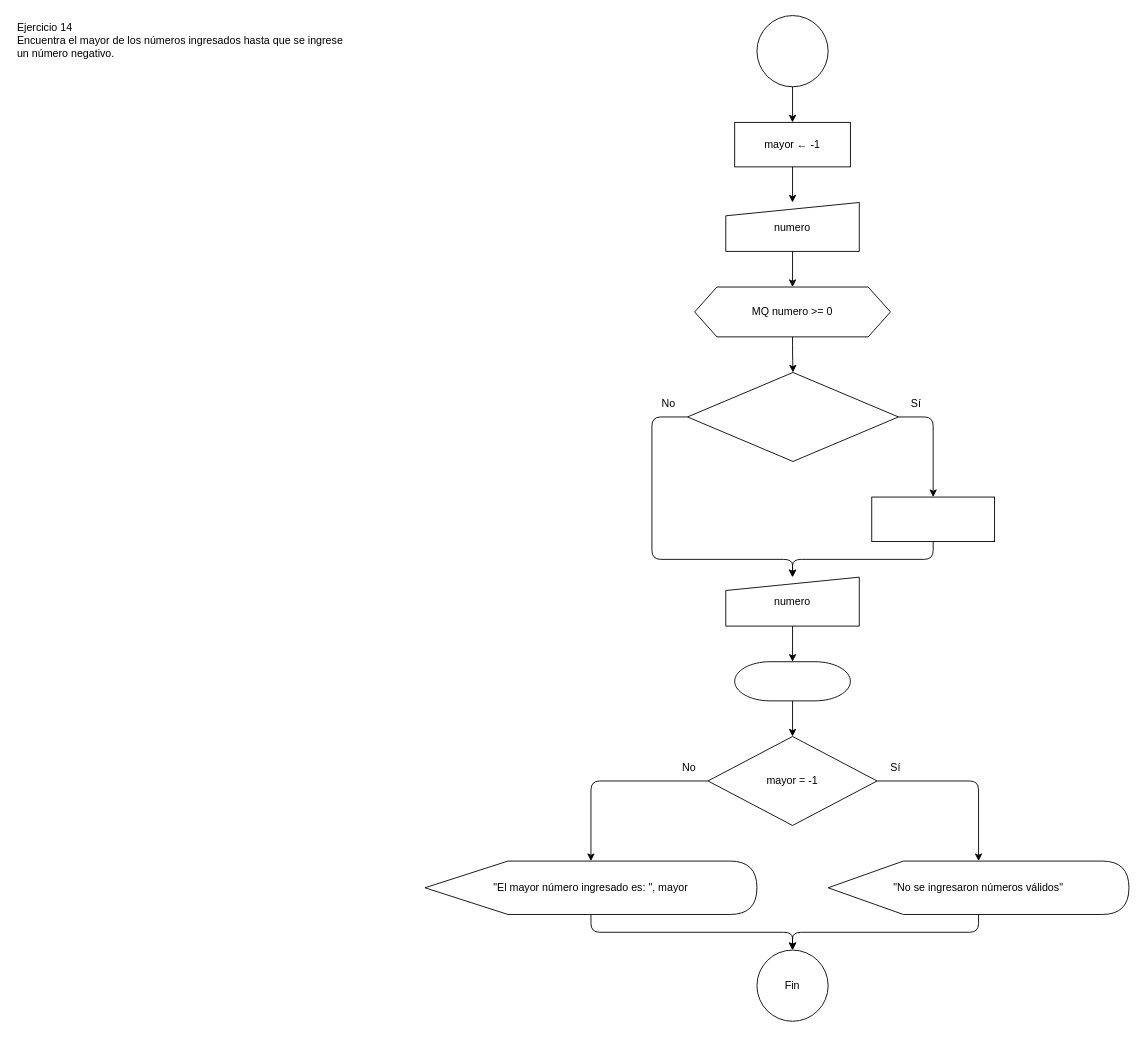
Image size: 1145x1037. Some labels were removed from this diagram. The box of each missing label's shape, as (x1, y1, x2, y2) in pixels:
Fin (MQ): (734, 661, 850, 701)
Inicio: (756, 15, 828, 87)
mayor ← numero: (871, 496, 995, 542)
numero > mayor: (687, 372, 898, 461)
